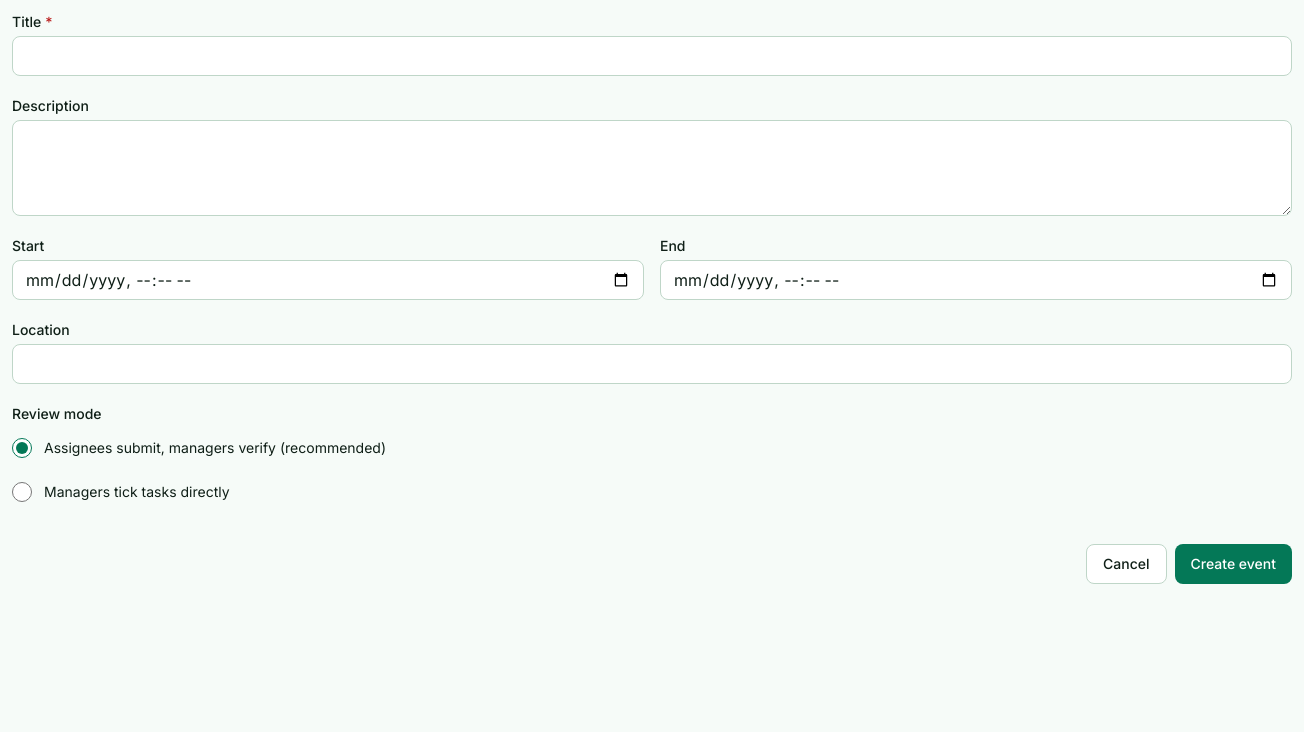
Test: NewEventForm › shows the end-before-start error on End
Step 1. Type "Fest" into the field labelled "Title*" → (652, 56), box [12,36,1292,76]
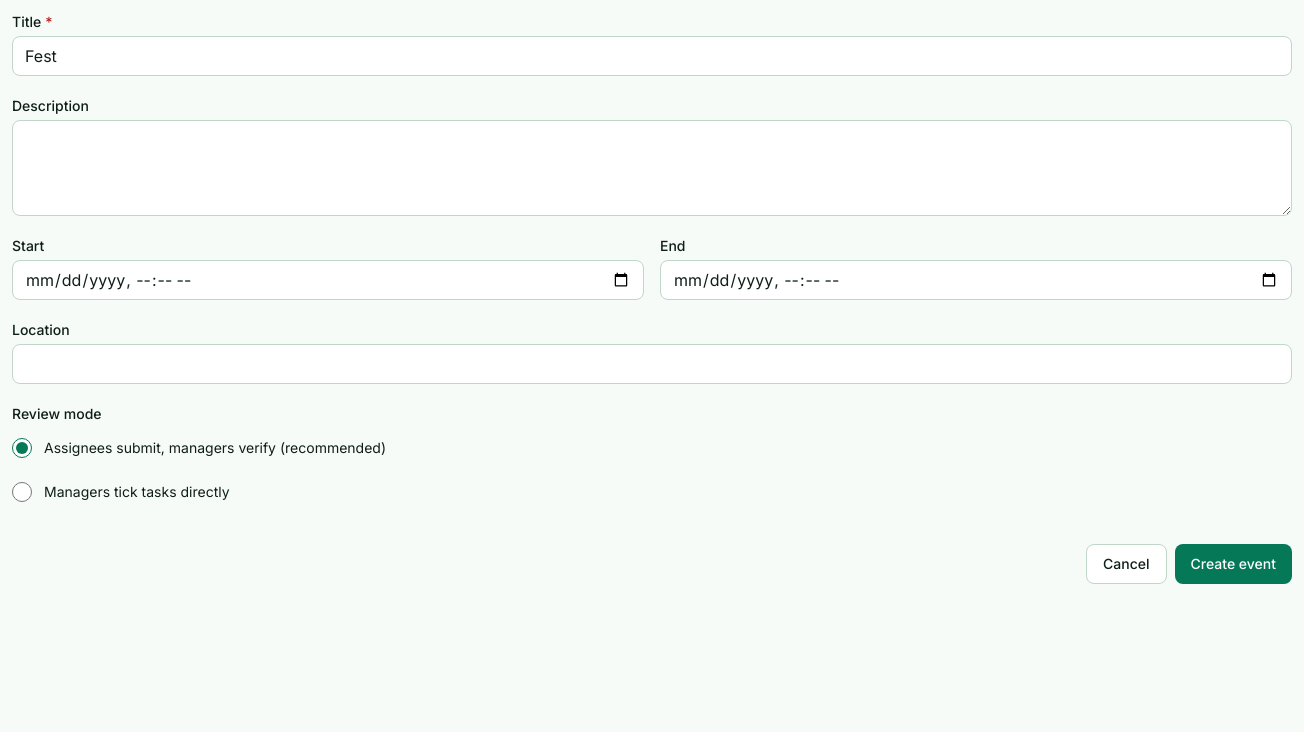
Step 2. Type "2026-11-02T10:00" into the field labelled "Start" → (328, 280), box [12,260,644,300]
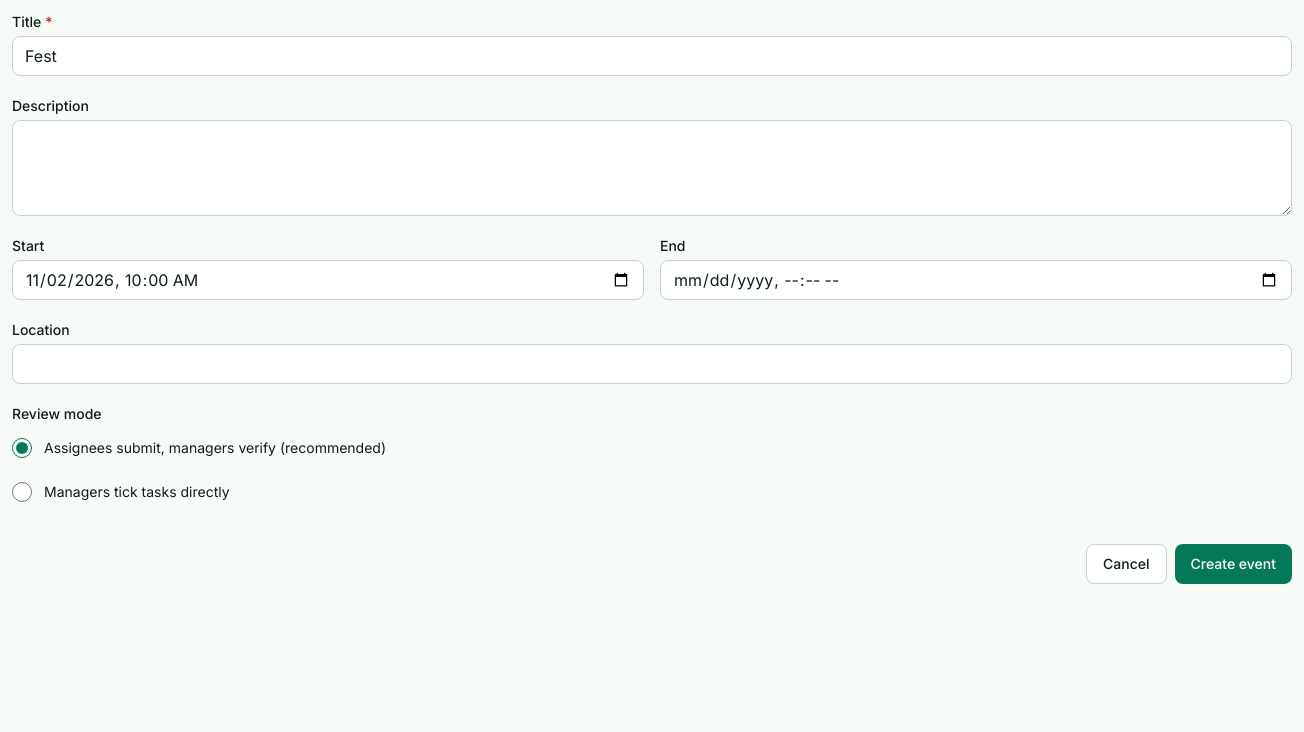
Step 3. Type "2026-11-01T10:00" into the field labelled "End" → (976, 280), box [660,260,1292,300]
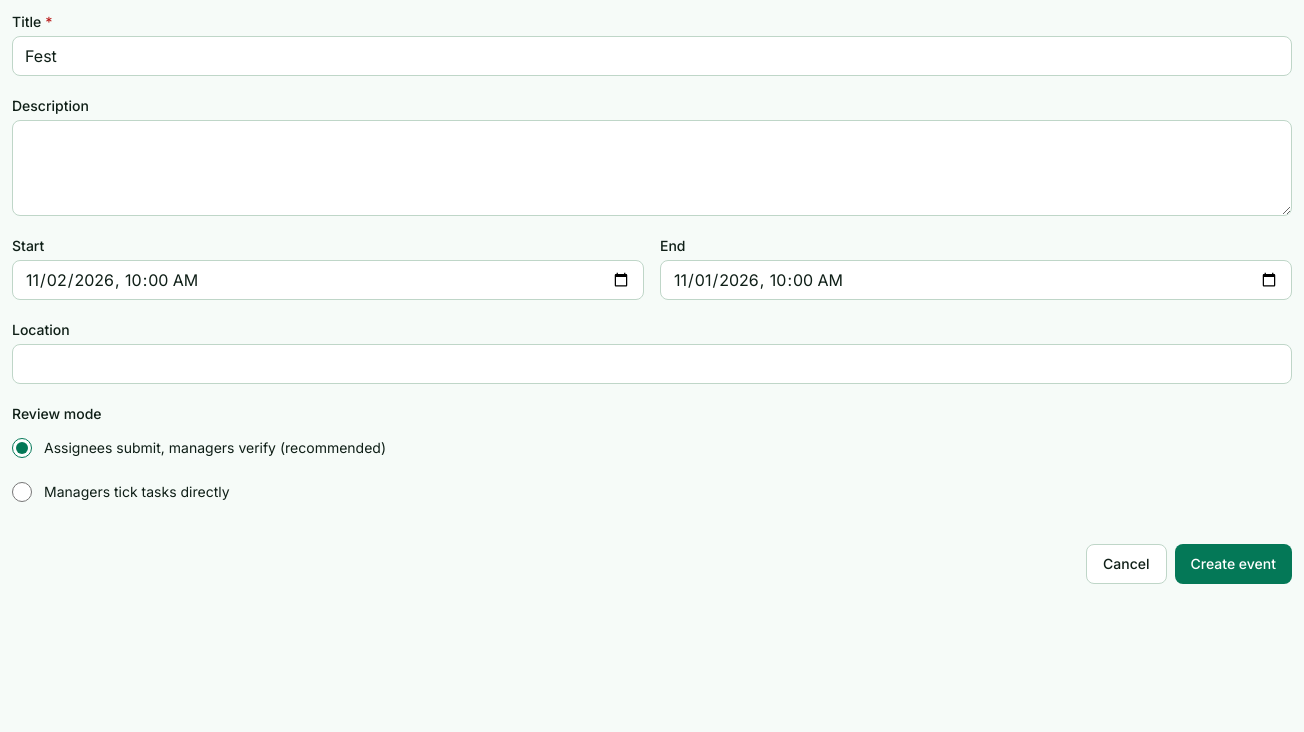
Step 4. Click the button "Create event" → (1233, 564), box [1174,544,1292,584]
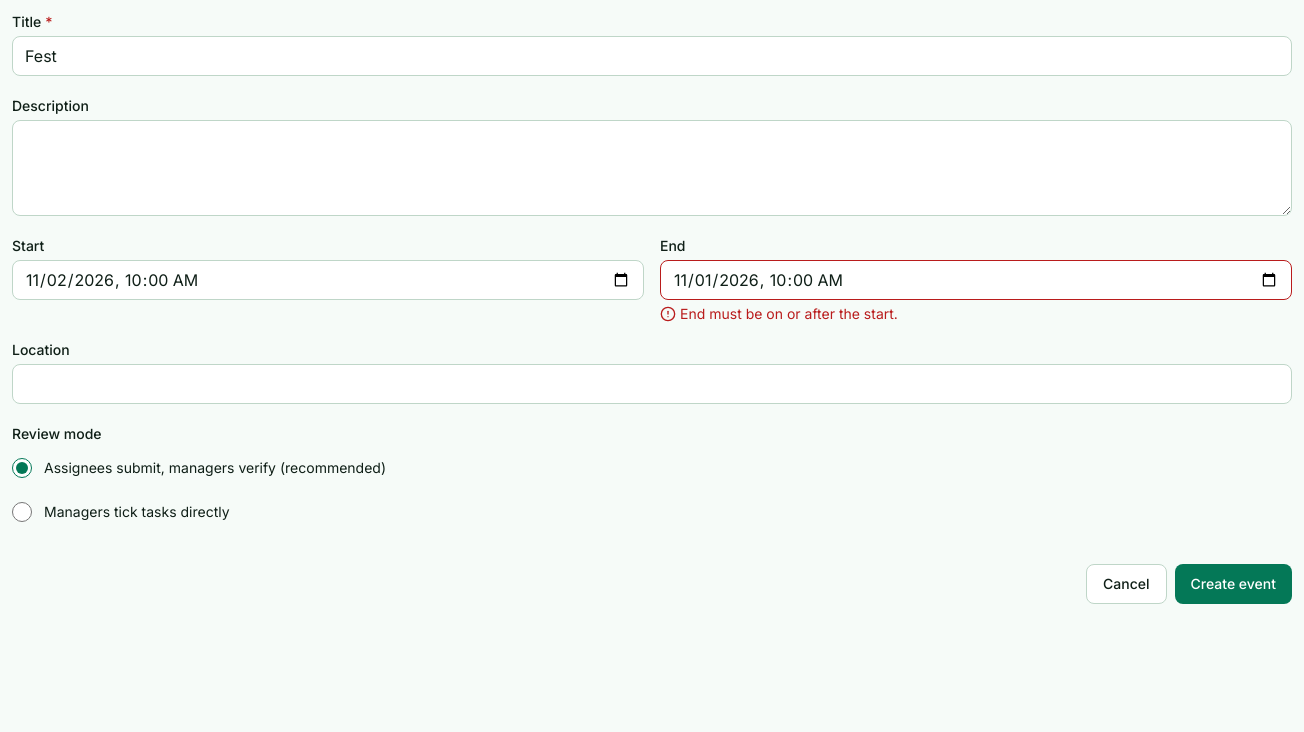
Expected: the text "End must be on or after the start." is shown, [660,305,898,322]
